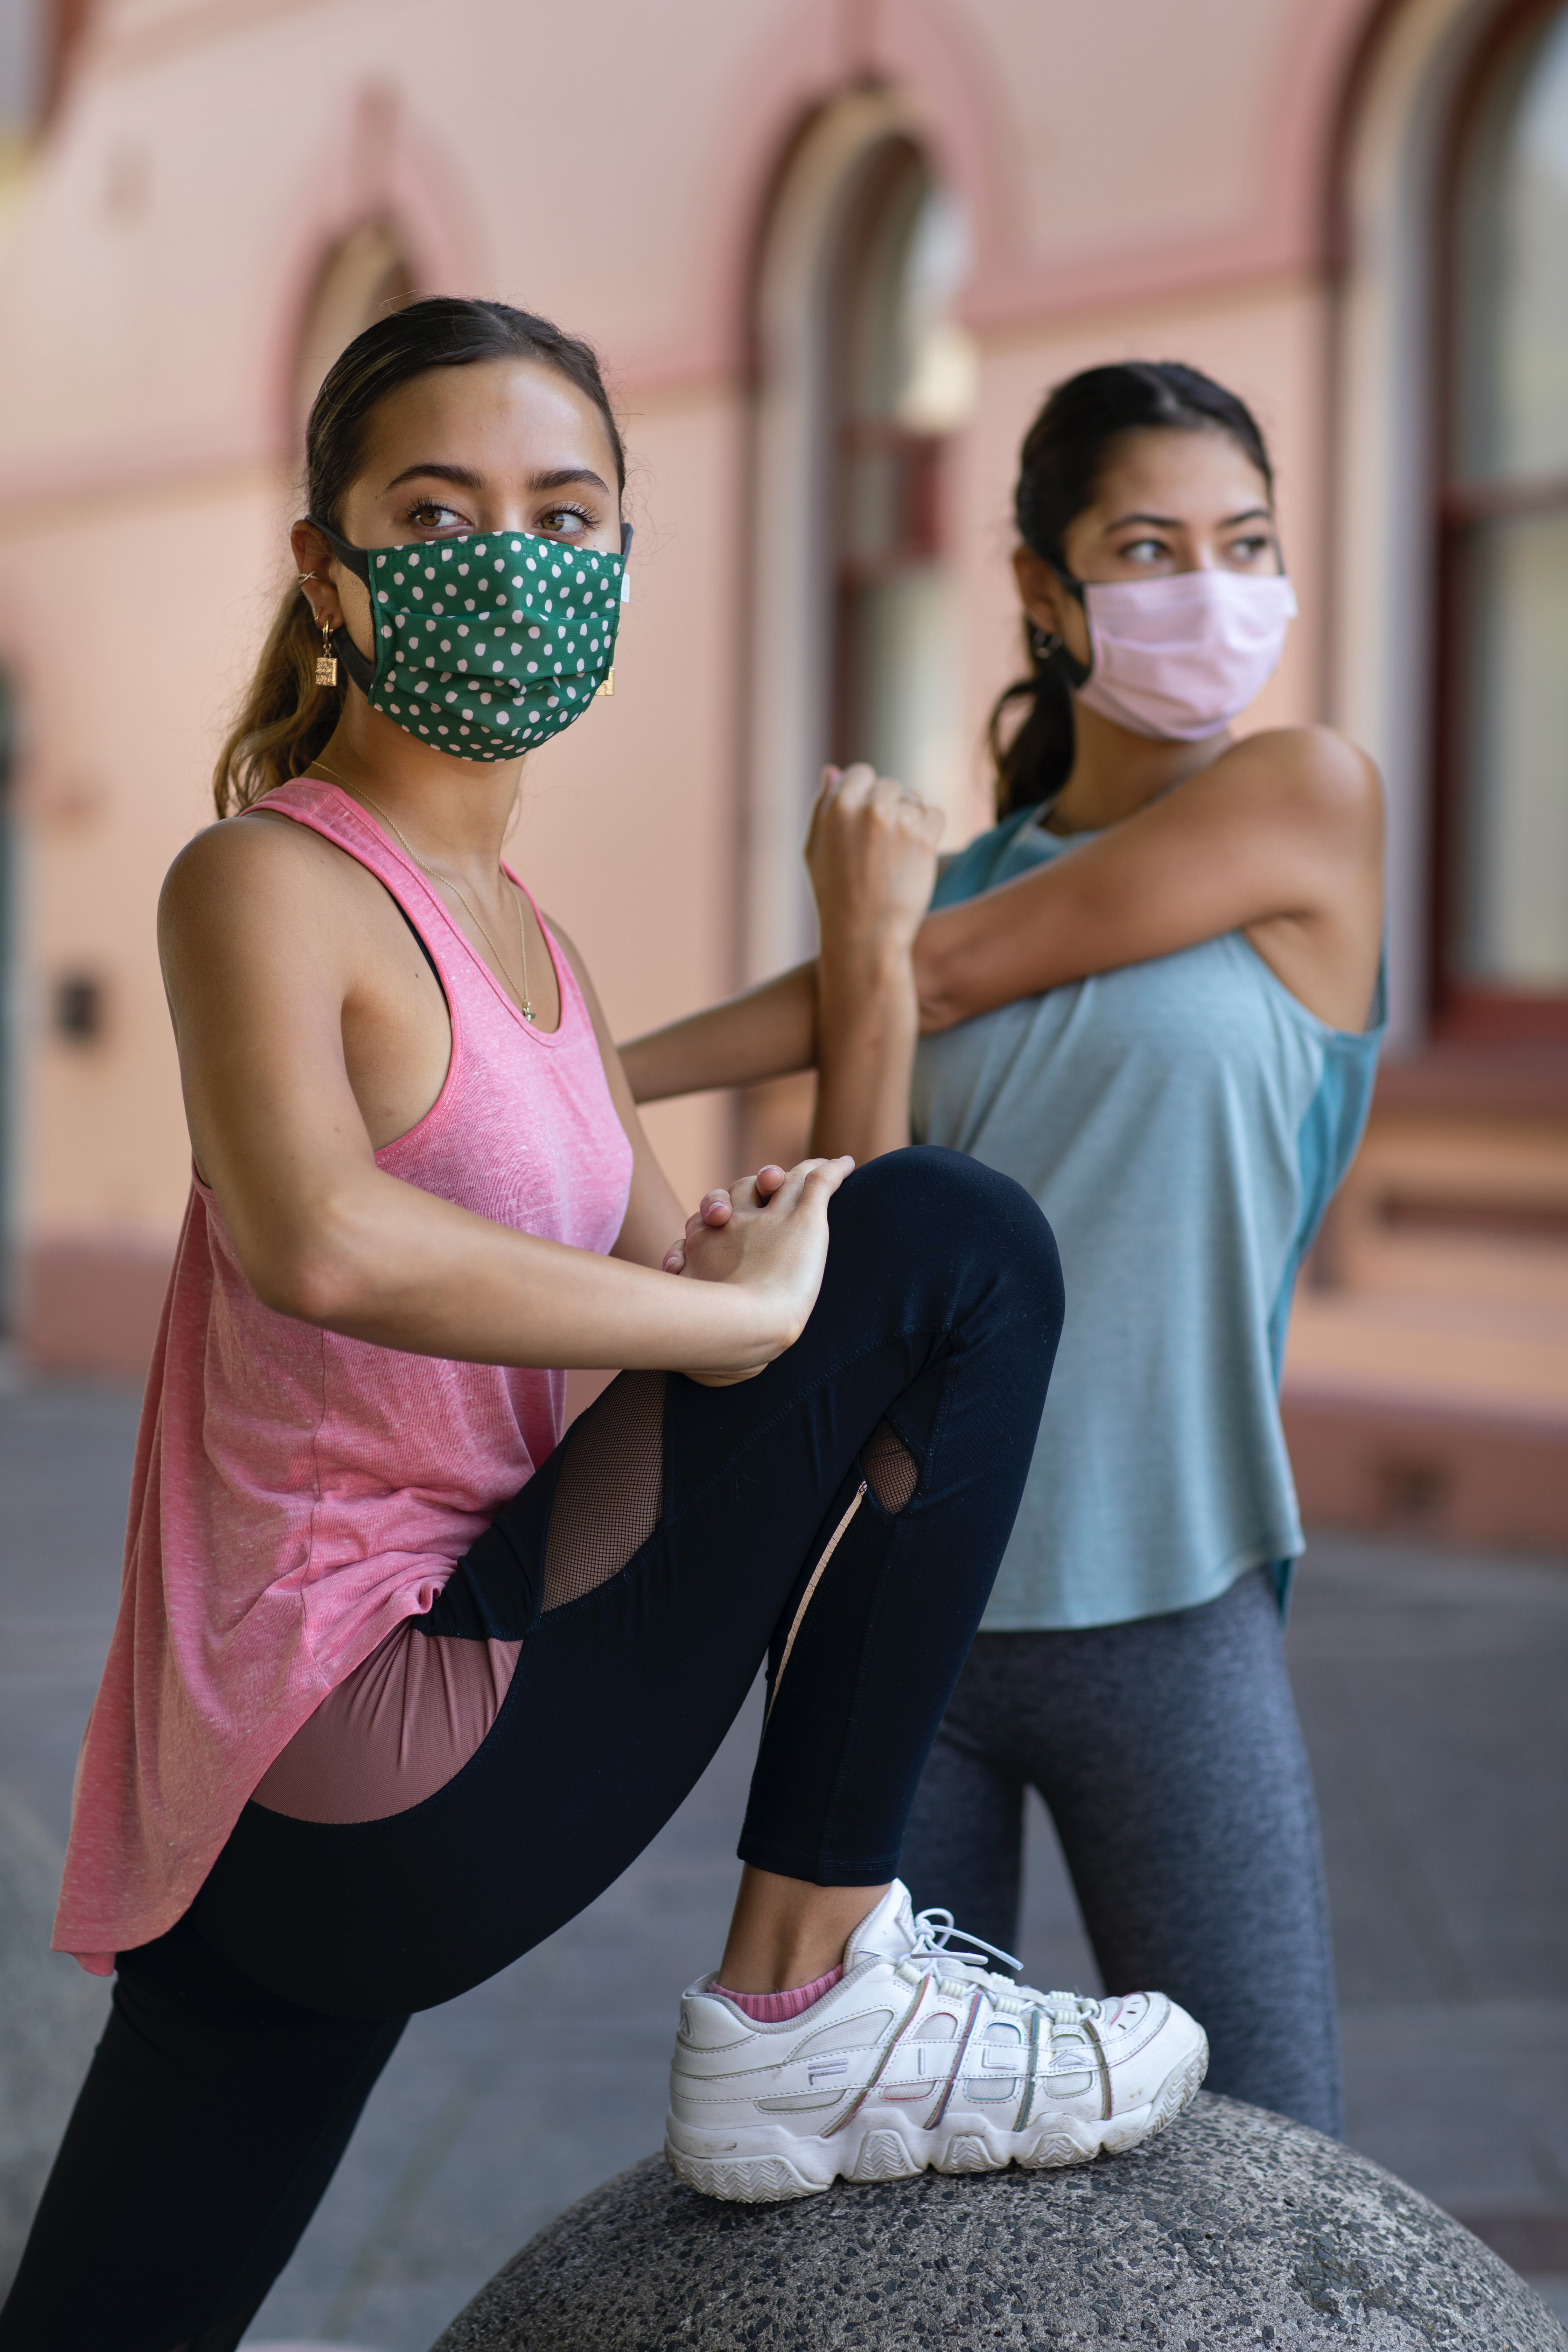mask: (304, 526, 644, 757), (999, 555, 1338, 786)
person: (43, 232, 1123, 2330), (706, 313, 1419, 2206)
